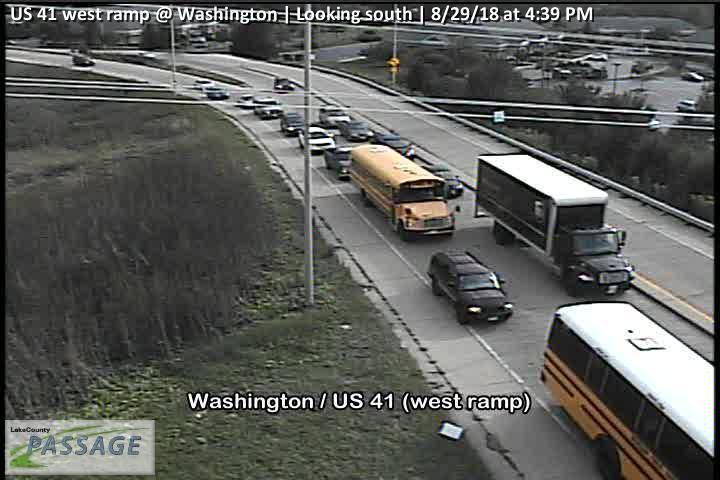Bus: (540, 300, 714, 480), (347, 144, 460, 241)
SUV: (427, 250, 514, 326), (419, 162, 463, 199), (319, 105, 350, 127), (280, 112, 307, 137), (254, 96, 283, 119), (274, 76, 296, 94)
Sedan: (375, 132, 416, 160), (298, 127, 336, 154), (338, 119, 374, 143)
Truck: (473, 151, 635, 297), (324, 145, 355, 180)
